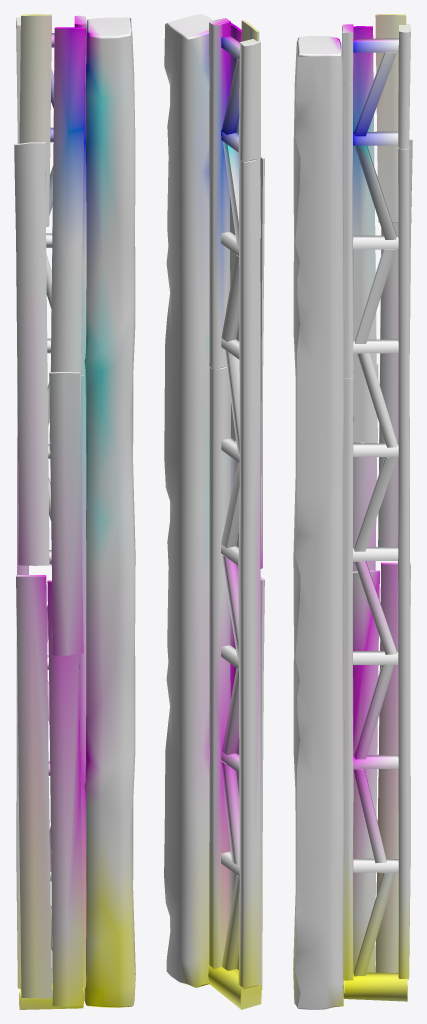
Rendered from SM_MillColumnWall_02a.FBX.
3 renders of one model, left to right at view 1: azimuth 90°, elevation 25°; view 2: azimuth 210°, elevation 25°; view 3: azimuth 270°, elevation 25°, orthographic. The views are drawn at different scales.
Parts seen in each view (by area): view 1: SM_MillColumnWall_02a_LOD0; view 2: SM_MillColumnWall_02a_LOD0; view 3: SM_MillColumnWall_02a_LOD0.
Boxes of the visible parts, bbox=[...] form: SM_MillColumnWall_02a_LOD0: bbox=[14, 14, 135, 1009]; SM_MillColumnWall_02a_LOD0: bbox=[164, 14, 264, 1009]; SM_MillColumnWall_02a_LOD0: bbox=[293, 14, 412, 1009].
Size of what is drawn, in the model's own units: 47.14 by 105 by 943.
